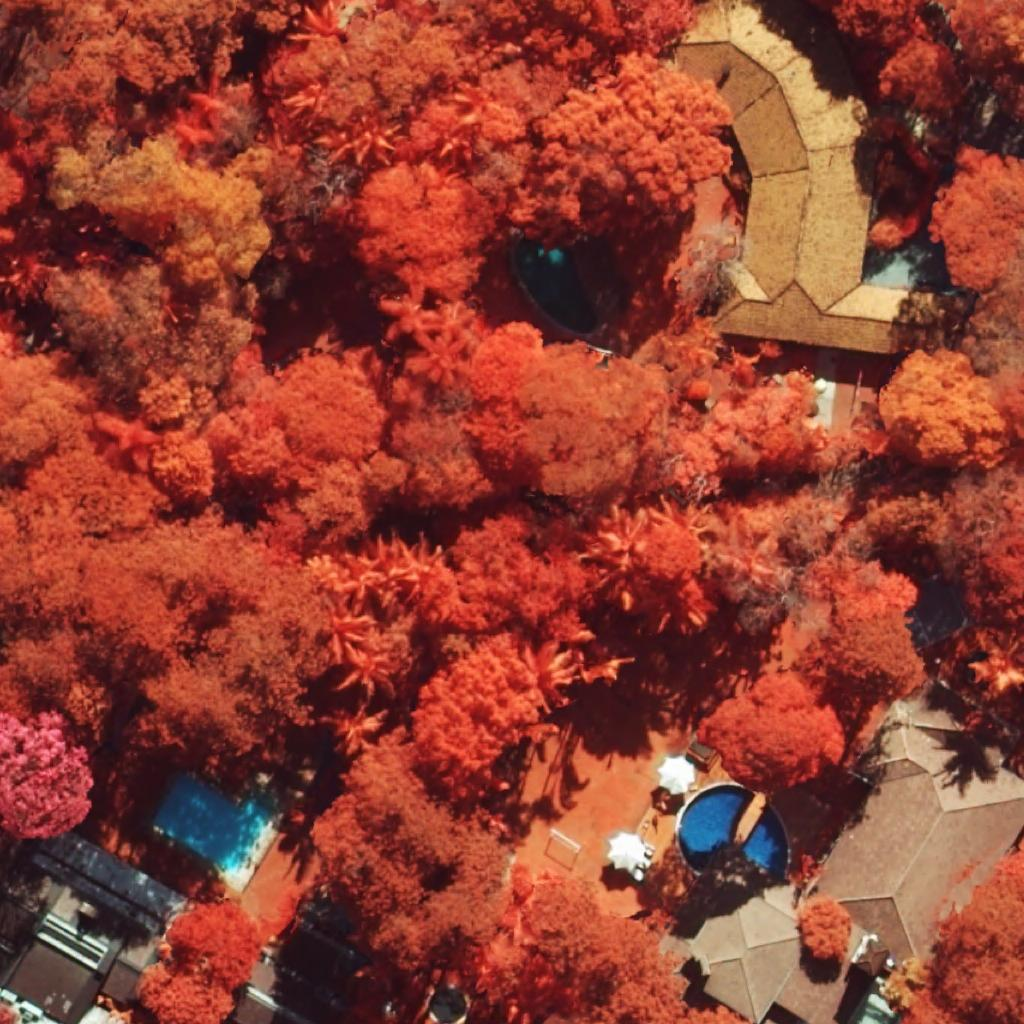pool: (152, 774, 275, 874), (514, 246, 597, 334), (679, 785, 755, 874), (740, 804, 787, 878)
